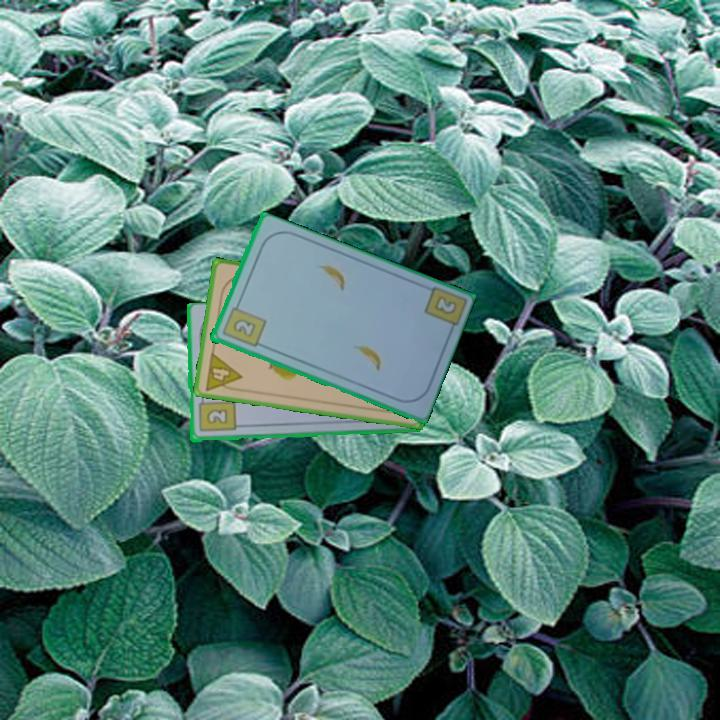2b: (218, 299, 268, 350), (195, 393, 238, 435), (430, 292, 459, 318)
4p: (201, 349, 245, 395)
